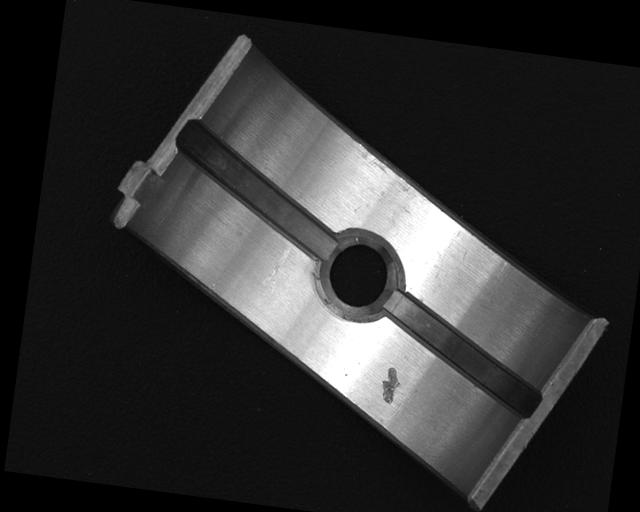bruise: (378, 364, 405, 407)
gap: (165, 116, 346, 262), (372, 291, 552, 421)
hole: (315, 230, 398, 325)
nick: (261, 242, 292, 295)
